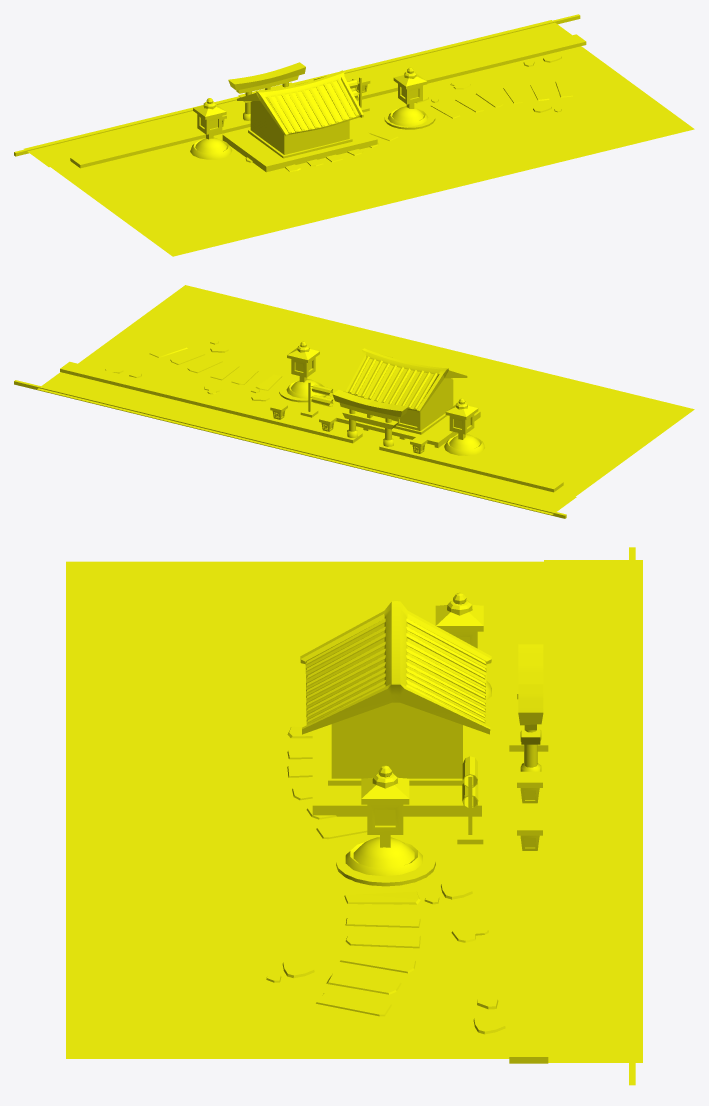
3 views of the same model, one above another, from view 1: azimuth 30°, elevation 25°; view 2: azimuth 150°, elevation 25°; view 3: azimuth 270°, elevation 25° (orthographic). The views are drawn at different scales.
Visible parts, largest first — view 1: san, house, san_2, separated_01_5, Block_001.001, Block_001, Block_001.002, Gate, Lantern_007__1_, Lantern_007, pSphere8, pSphere7; view 2: san, san_2, house, Block_001.001, Block_001.002, separated_01_5, Block_001, Gate, Lantern_007__1_, Lantern_007, pSphere8, Decor (+1 smaller); view 3: san, san_2, house, separated_01_5, Block_001.001, Block_001, Block_001.002, Gate, Lantern_007, pSphere7, Lantern_007__1_, Decor.
Boxes of the visible parts, x1=… form: san: x1=50, y1=46, x2=694, y2=256; house: x1=222, y1=70, x2=377, y2=172; san_2: x1=24, y1=20, x2=571, y2=167; separated_01_5: x1=245, y1=53, x2=572, y2=171; Block_001.001: x1=351, y1=34, x2=586, y2=100; Block_001: x1=70, y1=115, x2=250, y2=168; Block_001.002: x1=14, y1=14, x2=580, y2=156; Gate: x1=228, y1=62, x2=305, y2=120; Lantern_007__1_: x1=193, y1=98, x2=226, y2=139; Lantern_007: x1=393, y1=67, x2=427, y2=108; pSphere8: x1=190, y1=137, x2=232, y2=159; pSphere7: x1=388, y1=106, x2=428, y2=126; san: x1=78, y1=285, x2=694, y2=496; san_2: x1=37, y1=372, x2=576, y2=514; house: x1=330, y1=348, x2=480, y2=447; Block_001.001: x1=60, y1=361, x2=362, y2=443; Block_001.002: x1=14, y1=380, x2=566, y2=518; separated_01_5: x1=105, y1=340, x2=345, y2=402; Block_001: x1=379, y1=441, x2=563, y2=492; Gate: x1=332, y1=389, x2=408, y2=446; Lantern_007__1_: x1=445, y1=398, x2=478, y2=439; Lantern_007: x1=287, y1=341, x2=319, y2=382; pSphere8: x1=444, y1=434, x2=484, y2=455; Decor: x1=300, y1=382, x2=333, y2=417; san: x1=66, y1=561, x2=548, y2=1058; san_2: x1=544, y1=560, x2=642, y2=1062; house: x1=300, y1=601, x2=491, y2=816; separated_01_5: x1=266, y1=726, x2=505, y2=1034; Block_001.001: x1=509, y1=771, x2=548, y2=1063; Block_001: x1=509, y1=575, x2=548, y2=751; Block_001.002: x1=629, y1=547, x2=635, y2=1085; Gate: x1=518, y1=644, x2=543, y2=771; Lantern_007: x1=361, y1=765, x2=409, y2=847; pSphere7: x1=345, y1=837, x2=422, y2=876; Lantern_007__1_: x1=435, y1=592, x2=483, y2=648; Decor: x1=457, y1=756, x2=483, y2=844.
Bounding box in the file's own units: 69.95 × 7.76 × 31.71.
2 materials, 2 textured.
